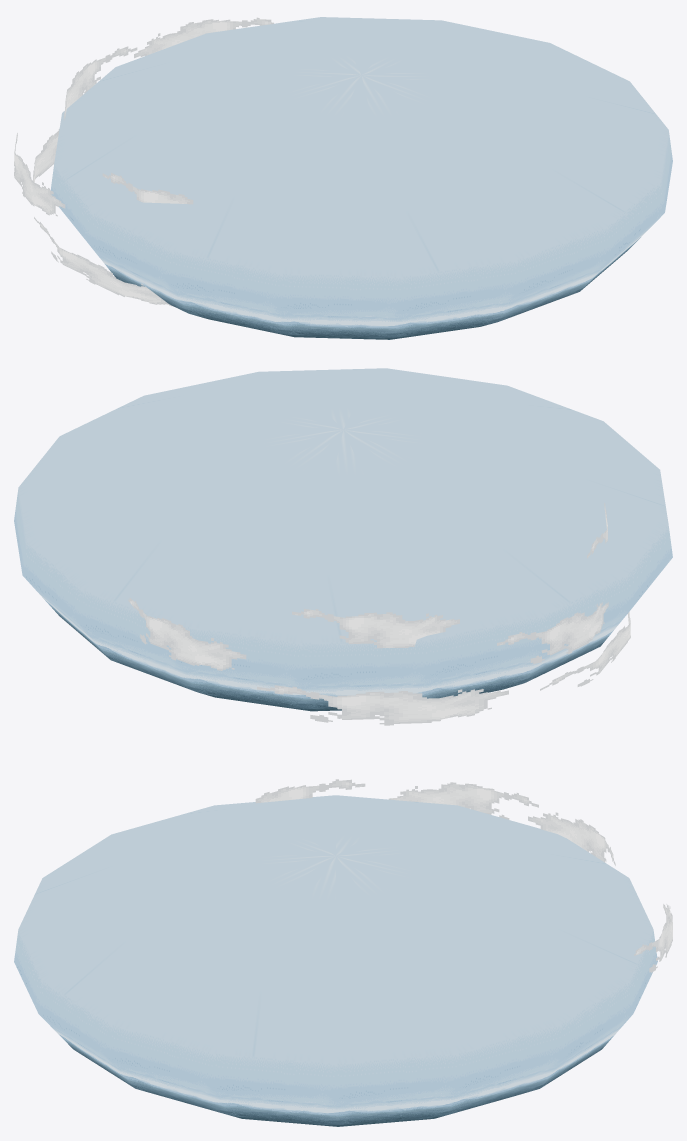
The picture shows the model from 3 angles, top to bottom: view 1: azimuth 30°, elevation 25°; view 2: azimuth 150°, elevation 25°; view 3: azimuth 270°, elevation 25°; orthographic projection. The views are drawn at different scales.
Bounding box in the file's own units: 103795 × 38930 × 104404.
25 materials, 25 textured.
